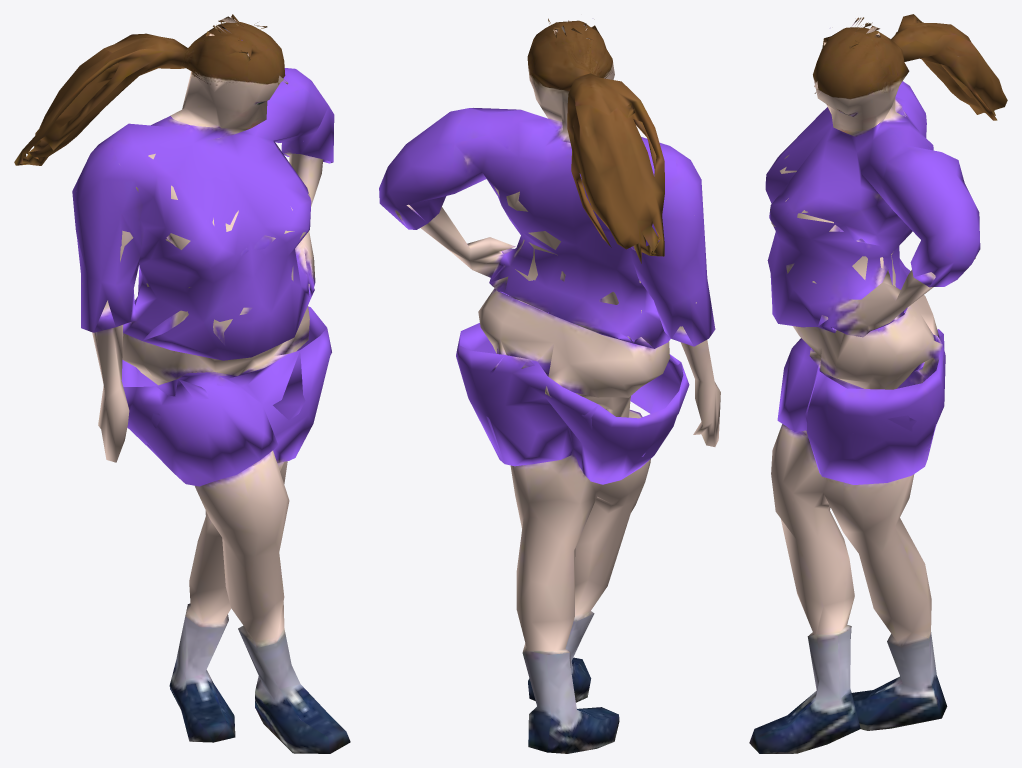
Rendered from female-d-idle-near.glb.
The picture shows the model from 3 angles, left to right: view 1: azimuth 30°, elevation 25°; view 2: azimuth 150°, elevation 25°; view 3: azimuth 270°, elevation 25°; orthographic projection.
Visible parts, largest first — view 1: crowd; view 2: crowd; view 3: crowd.
Part boxes in pixels (<box>): crowd: <box>14,14,350,753</box>; crowd: <box>379,18,720,753</box>; crowd: <box>749,14,1007,753</box>.
Bounding box in the file's own units: 0.718 × 1.64 × 0.5384.
Materials: 1 (1 with a texture image).
